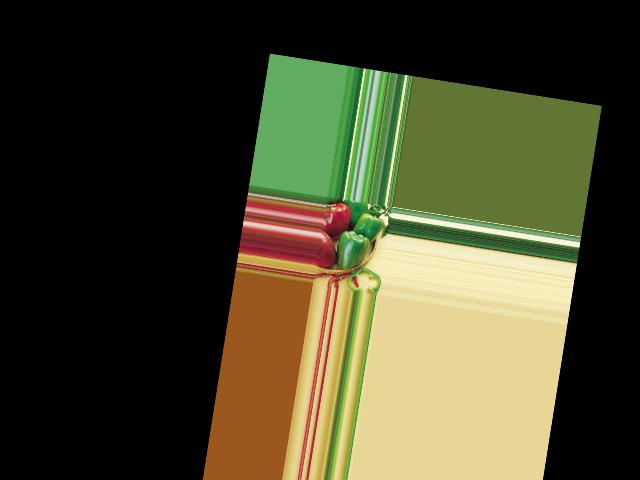bell_pepper: (316, 229, 338, 269)
